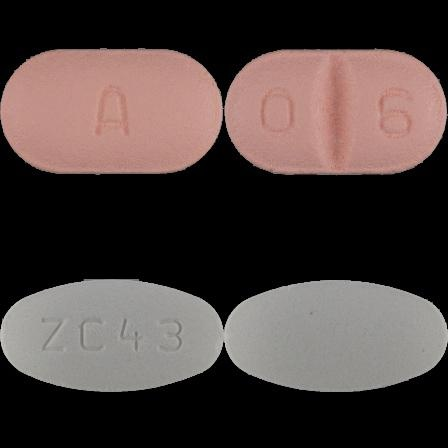68084-744: (0, 0, 224, 224)
